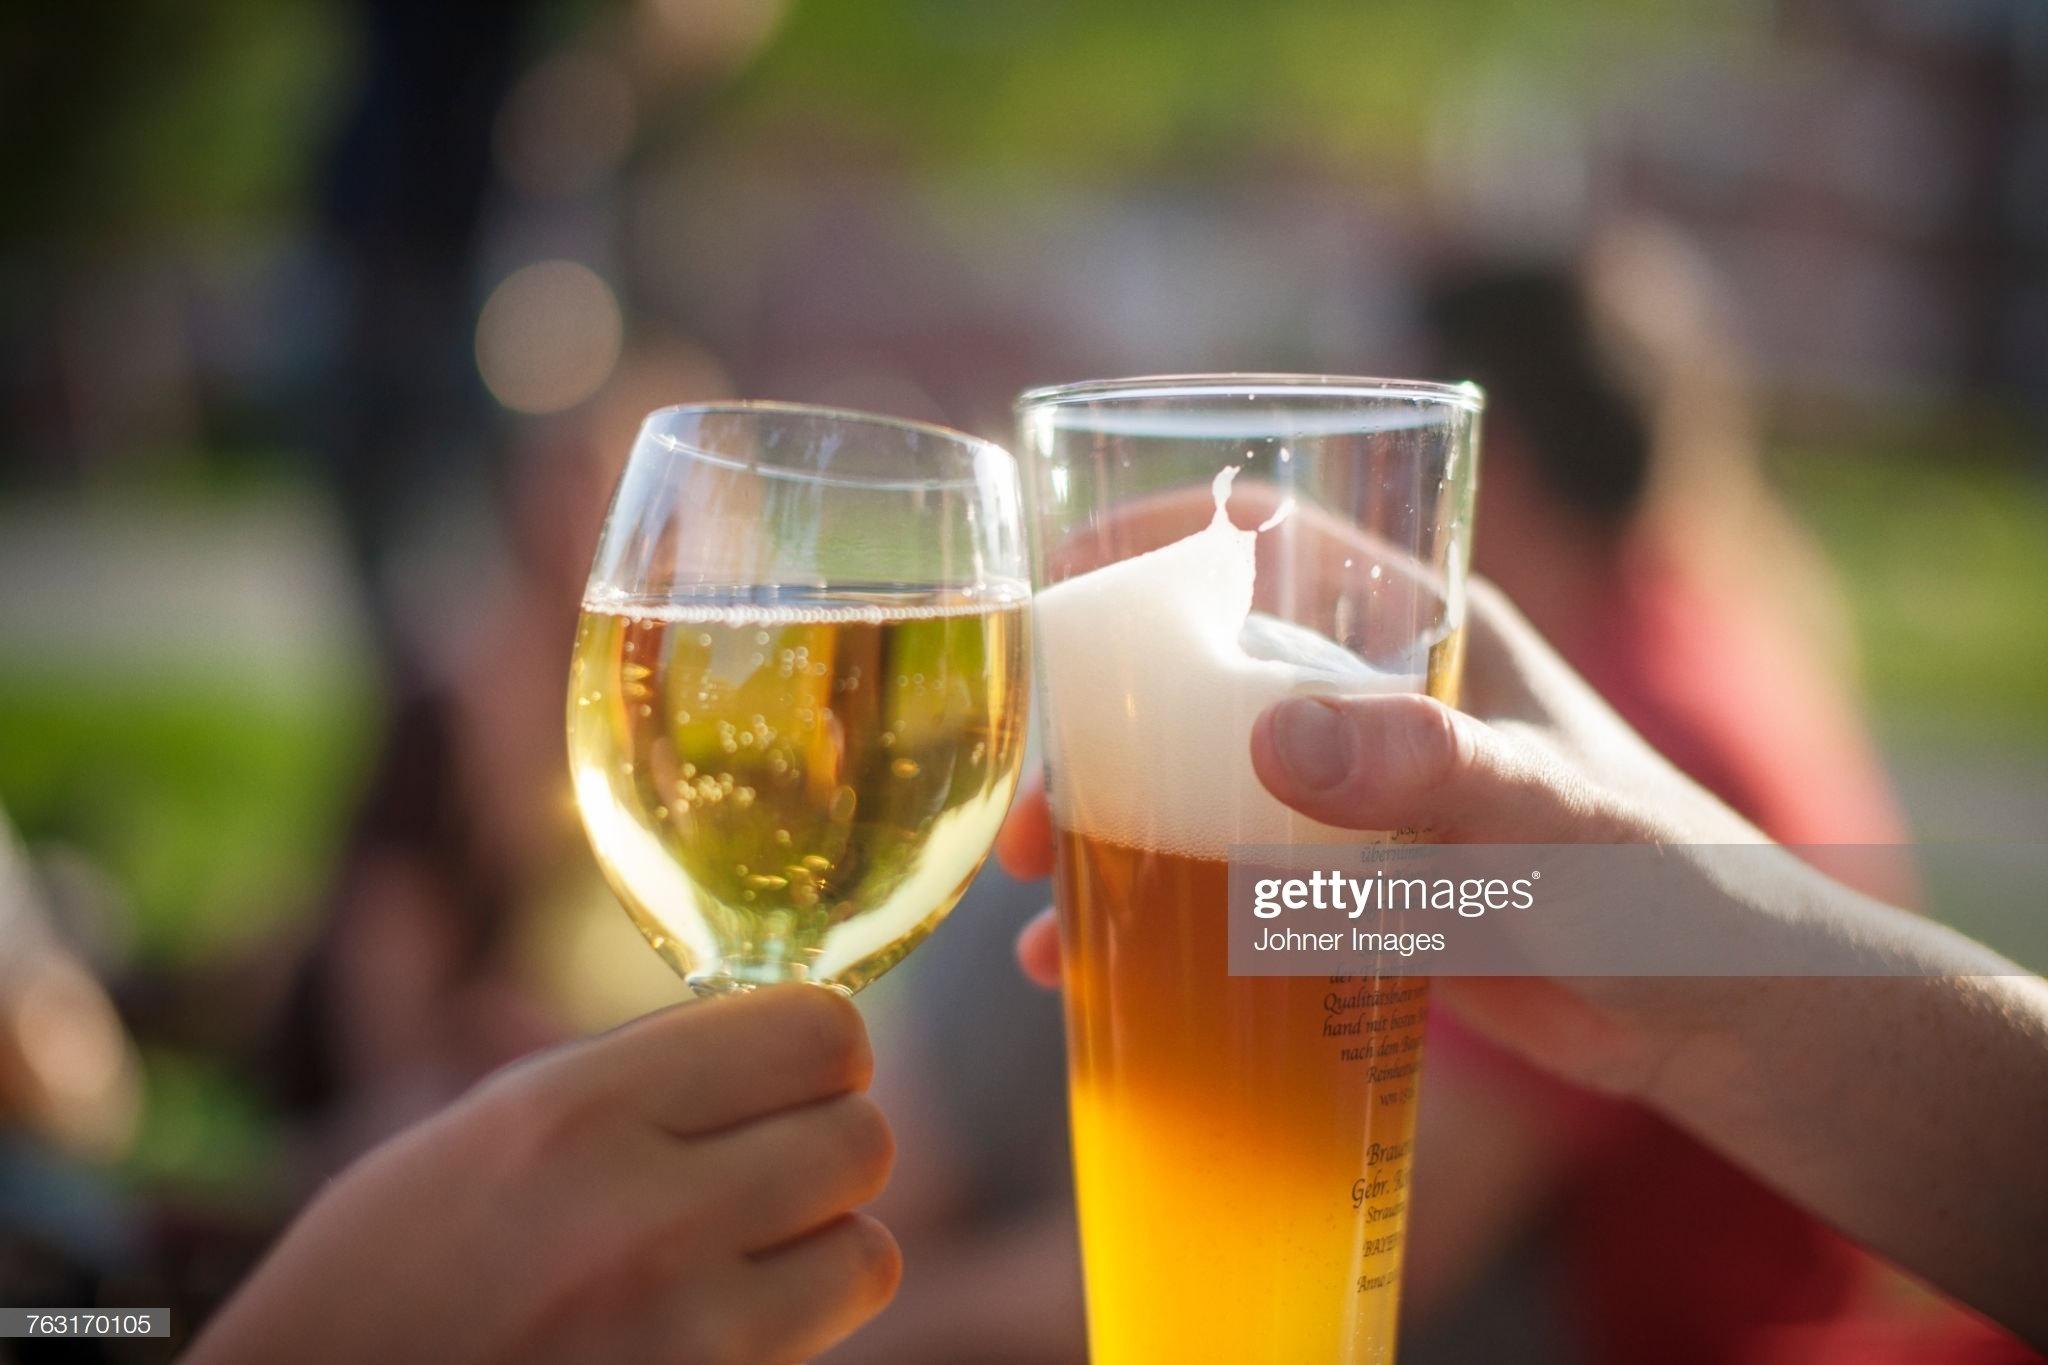whiskey: (1038, 367, 1509, 1365), (556, 401, 1025, 1047)
